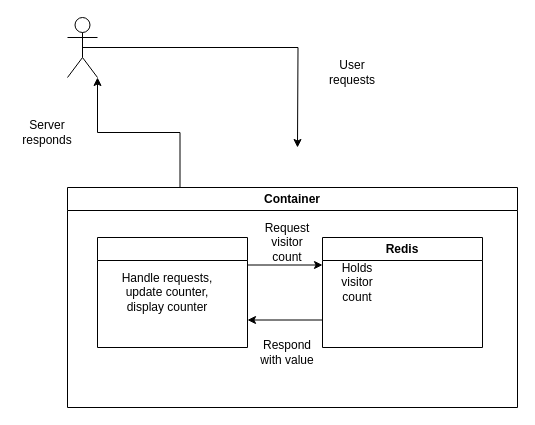
Some shapes in this 535 by 425 pixel diagram are drawn without their labels. Here are the shapes that lost their labels. From the top down, the box of each, then its label:
(66, 16, 98, 78): User
(96, 236, 248, 348): Node.js
